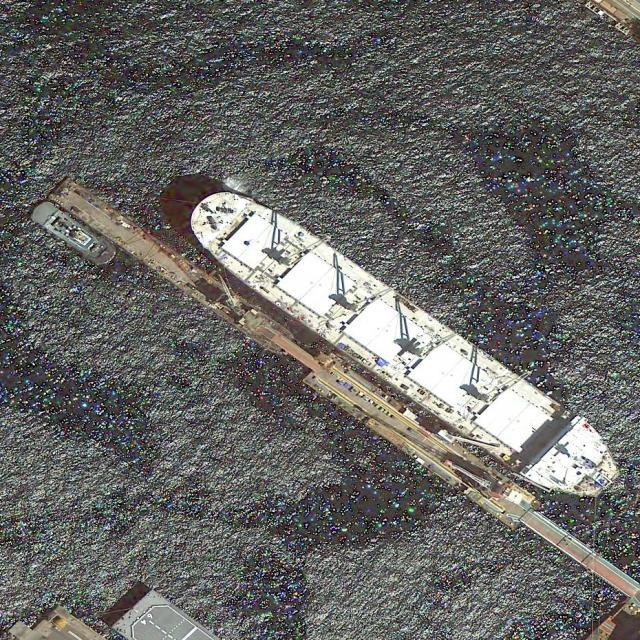Cargo: (172, 169, 636, 522)
